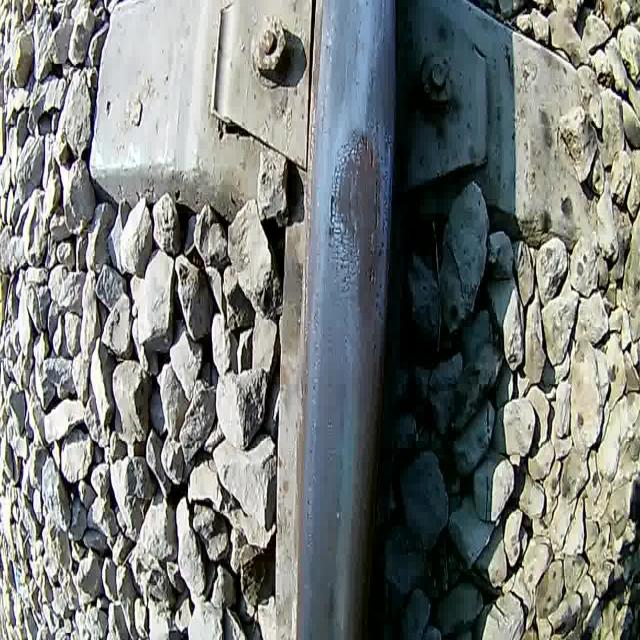Squats: (323, 124, 388, 336)
